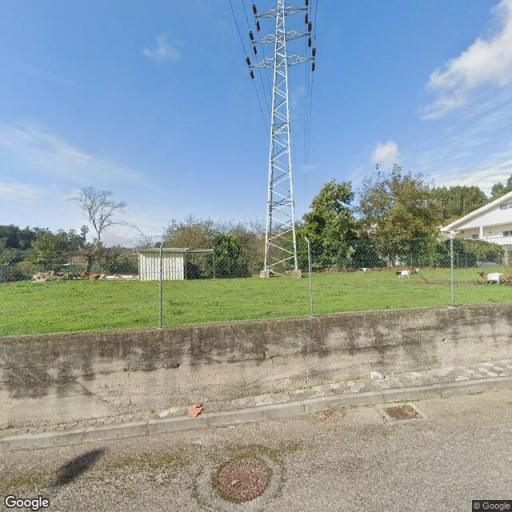ss_3: (242, 0, 322, 282)
